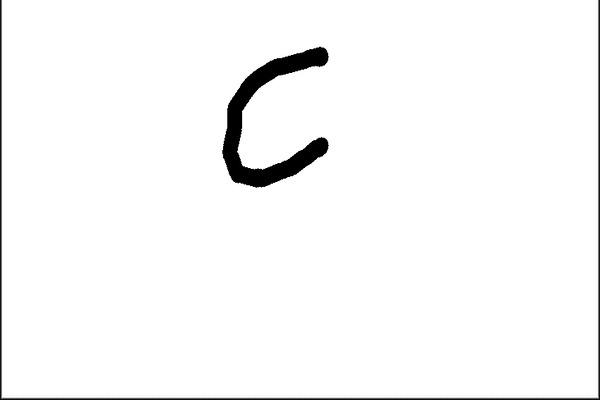C: (218, 37, 333, 189)
